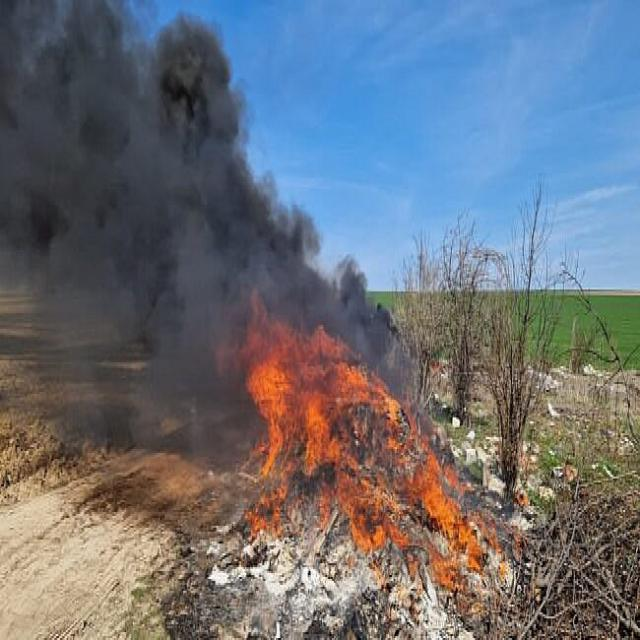Fire: (240, 324, 460, 561)
Smoke: (0, 0, 312, 514)
